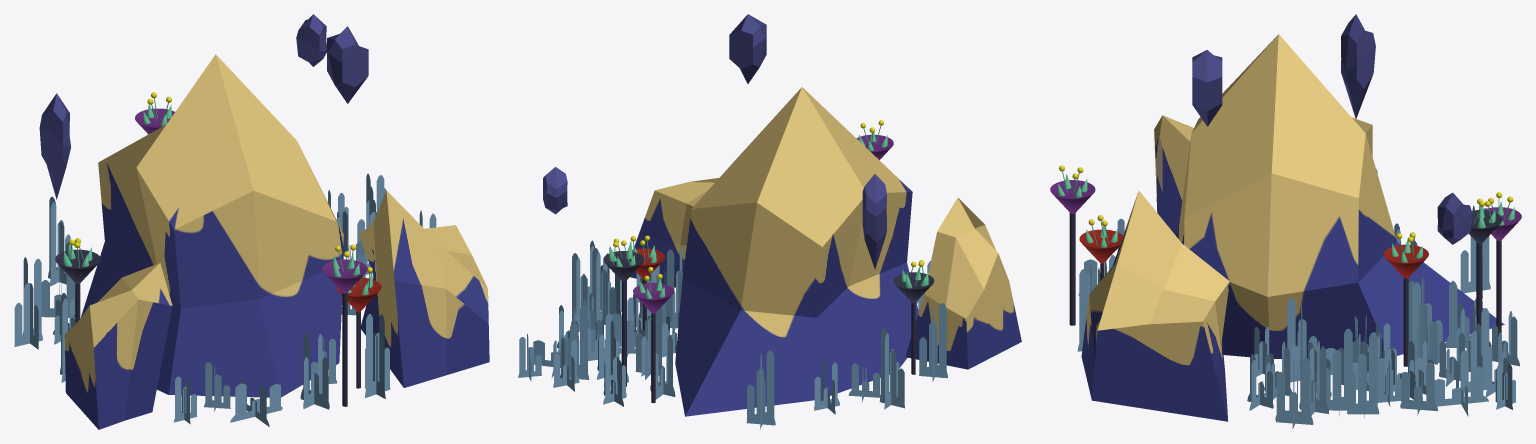
The model's file is rock_diamond.glb.
The picture shows the model from 3 angles, left to right: view 1: azimuth 30°, elevation 25°; view 2: azimuth 150°, elevation 25°; view 3: azimuth 270°, elevation 25°; orthographic projection. The views are drawn at different scales.
Visible parts, largest first — view 1: Cube.021; view 2: Cube.021; view 3: Cube.021.
Part boxes in pixels (x1,y1,x2,y2): Cube.021: (14,14,489,429); Cube.021: (518,14,1021,429); Cube.021: (1050,14,1521,429).
Bounding box in the file's own units: 7.8 × 5.78 × 7.83.
Materials: 9 (1 with a texture image).
